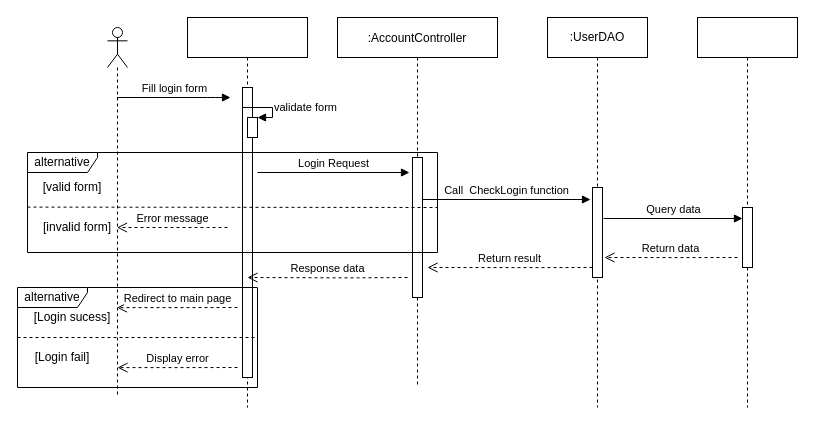
The diagram is 815 pixels wide and 425 high, and some of its shapes have lost their labels. The shapes that lost their labels are listed below. From the top down, each one's box as (x1, y1, x2, y2) in pixels, then its label:
(186, 16, 308, 408): Browser
(696, 16, 798, 408): Database
